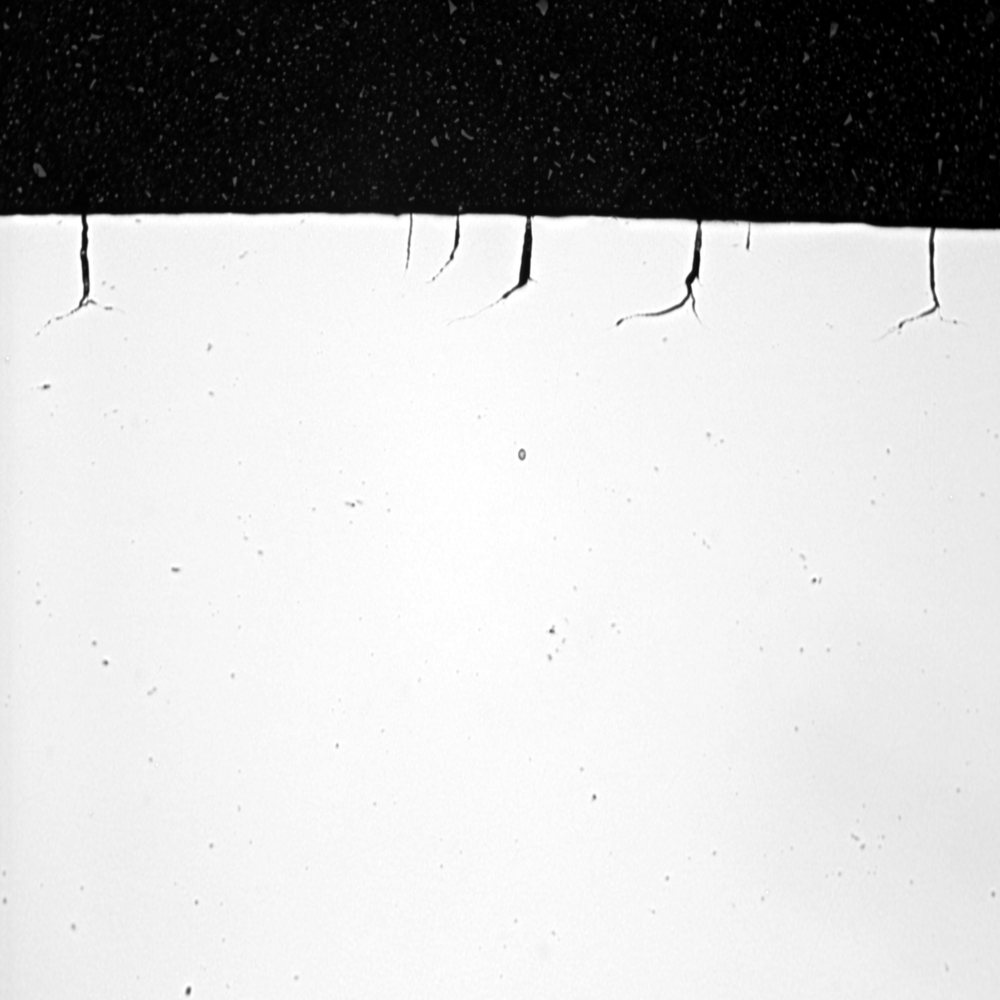crack: (610, 219, 713, 345), (887, 227, 950, 336), (495, 212, 543, 312), (64, 211, 101, 329), (429, 213, 466, 286), (397, 211, 416, 280), (738, 219, 762, 261)
